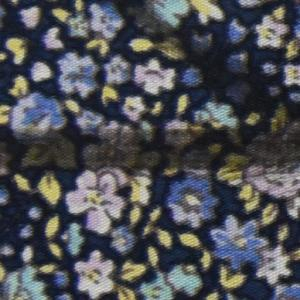Stain: (1, 1, 300, 186)
